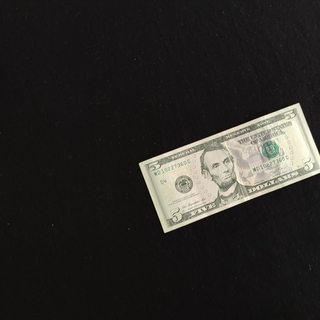5USDFront: (138, 101, 320, 233)
